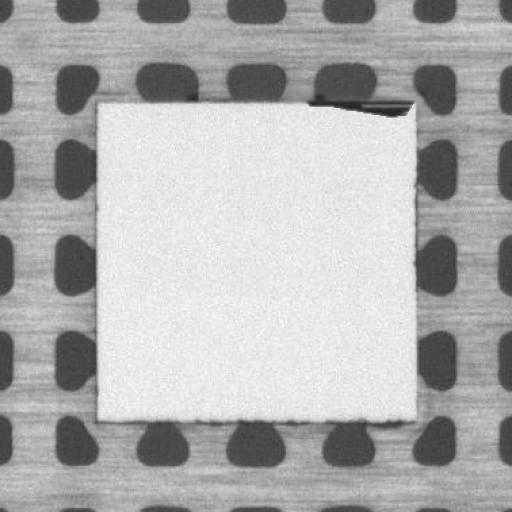DIE_BROKEN: (308, 97, 414, 116)
